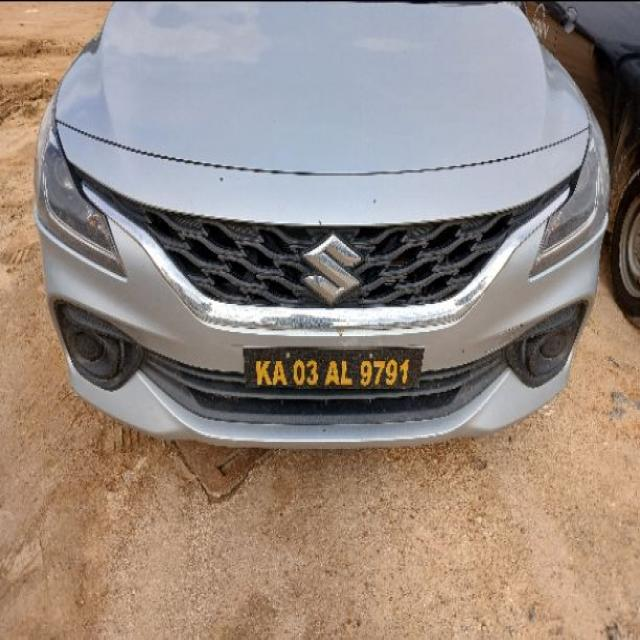license_plate: (33, 0, 611, 448), (242, 344, 424, 394)
